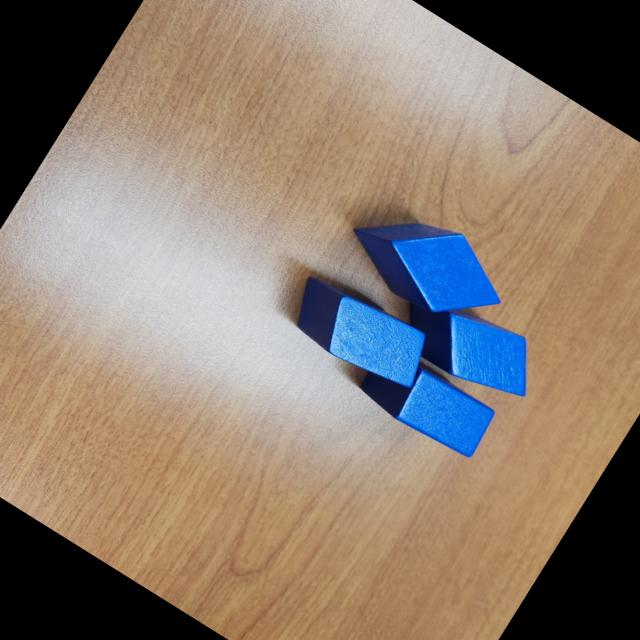blue: (334, 184, 520, 346), (278, 265, 444, 405), (387, 275, 550, 415), (354, 342, 500, 466)
